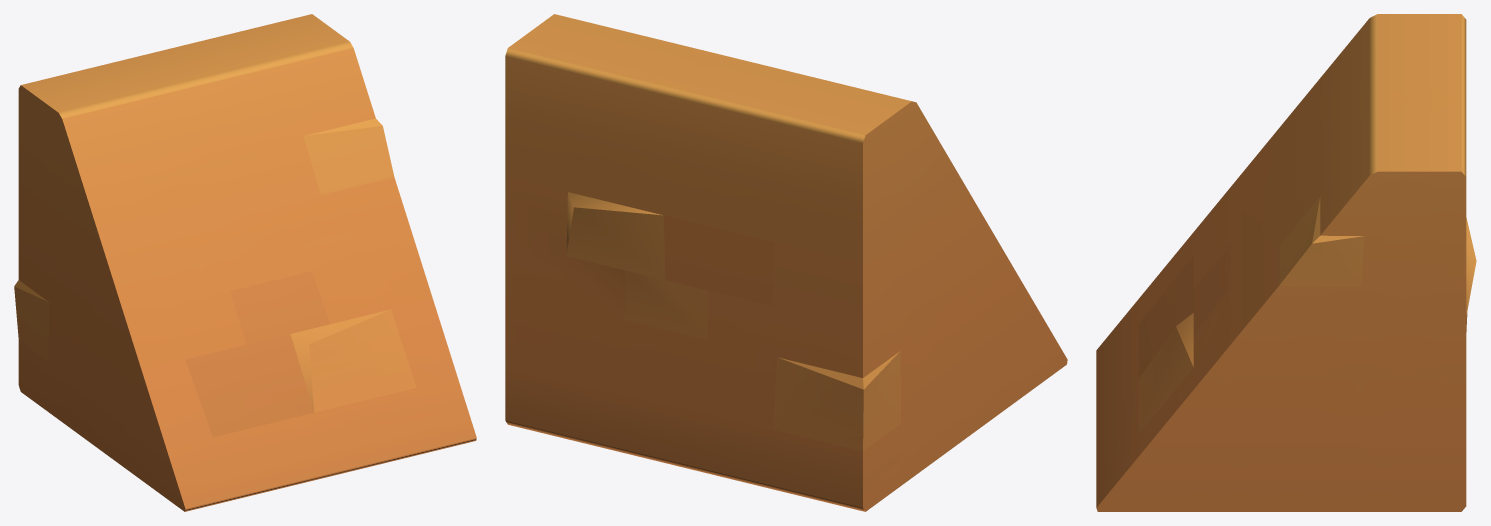
The model's file is pyramid_wall_2m.fbx.
3 renders of one model, left to right at view 1: azimuth 30°, elevation 25°; view 2: azimuth 150°, elevation 25°; view 3: azimuth 270°, elevation 25°, orthographic. The views are drawn at different scales.
Parts seen in each view (by area): view 1: pyramid_wall_2m; view 2: pyramid_wall_2m; view 3: pyramid_wall_2m.
Boxes of the visible parts, x1=… form: pyramid_wall_2m: x1=14, y1=14, x2=476, y2=511; pyramid_wall_2m: x1=505, y1=14, x2=1067, y2=511; pyramid_wall_2m: x1=1096, y1=14, x2=1476, y2=511.
Bounding box in the file's own units: 408 × 402 × 408.
